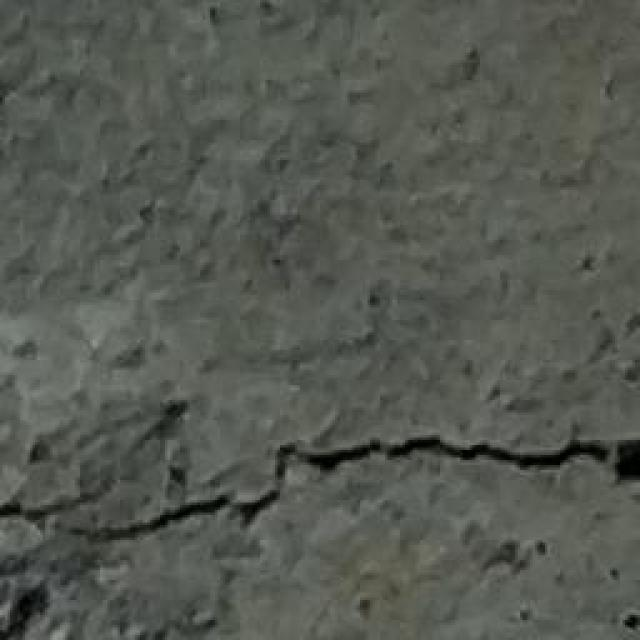Radial: (0, 421, 640, 639)
